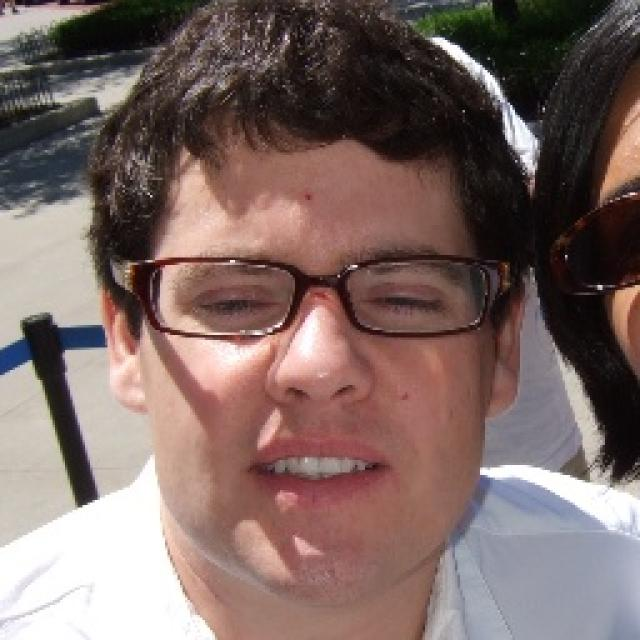earlobe: (96, 288, 150, 412)
